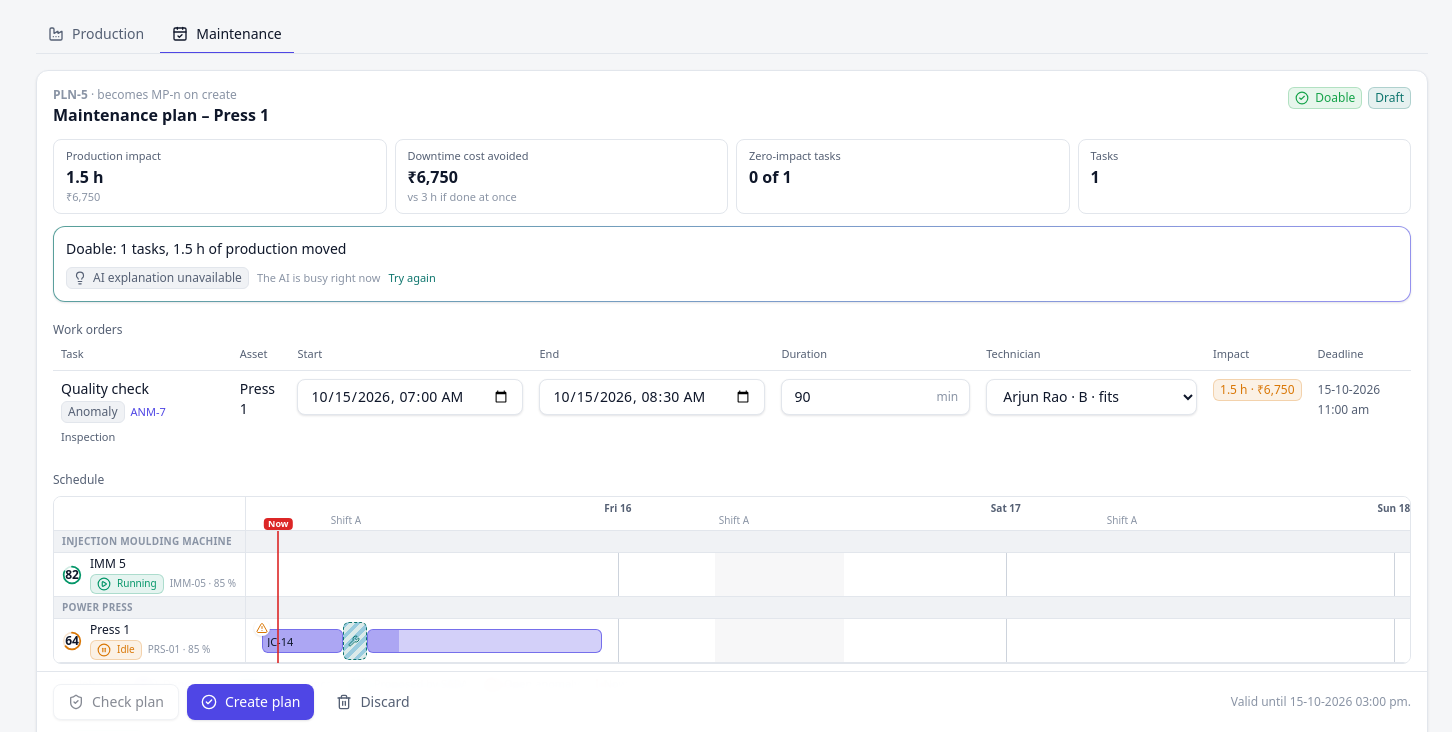
Test: PlannerPage · Maintenance › pre-fills and runs the deep link, then shows the plan with metrics, tasks and the fallback line
Expected: the heading "Maintenance plan – Press 1" is shown, [53,103,269,127]
Expected: the text "₹6,750" below "Production impact" is shown, [66,188,100,204]
Select "Priya Nair · C" in the dropdown named "Technician of Quality check". click: [1092, 397]
box: [986,379,1197,415]
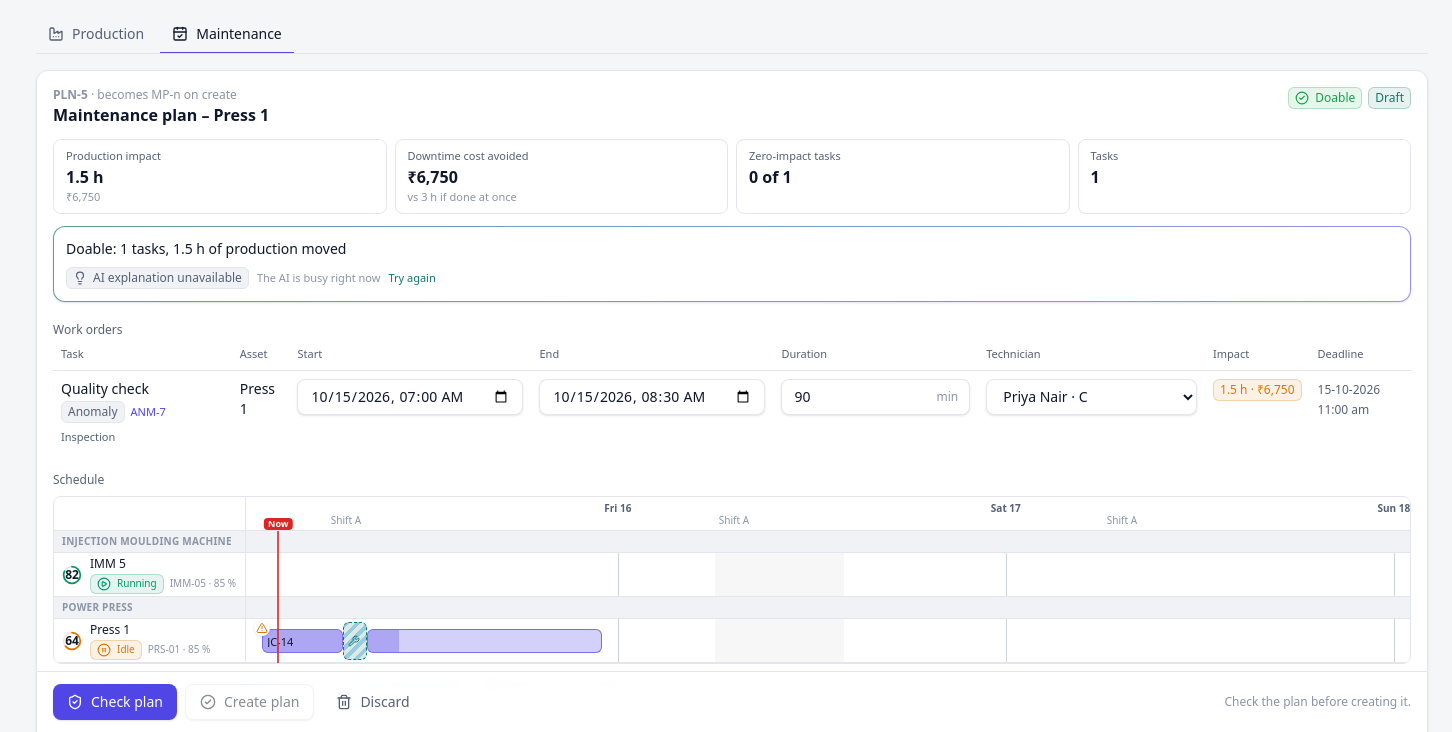
Expected: the button "Check plan" is enabled
Click the button "Check plan". click: [115, 702]
box: [53,684,177,720]
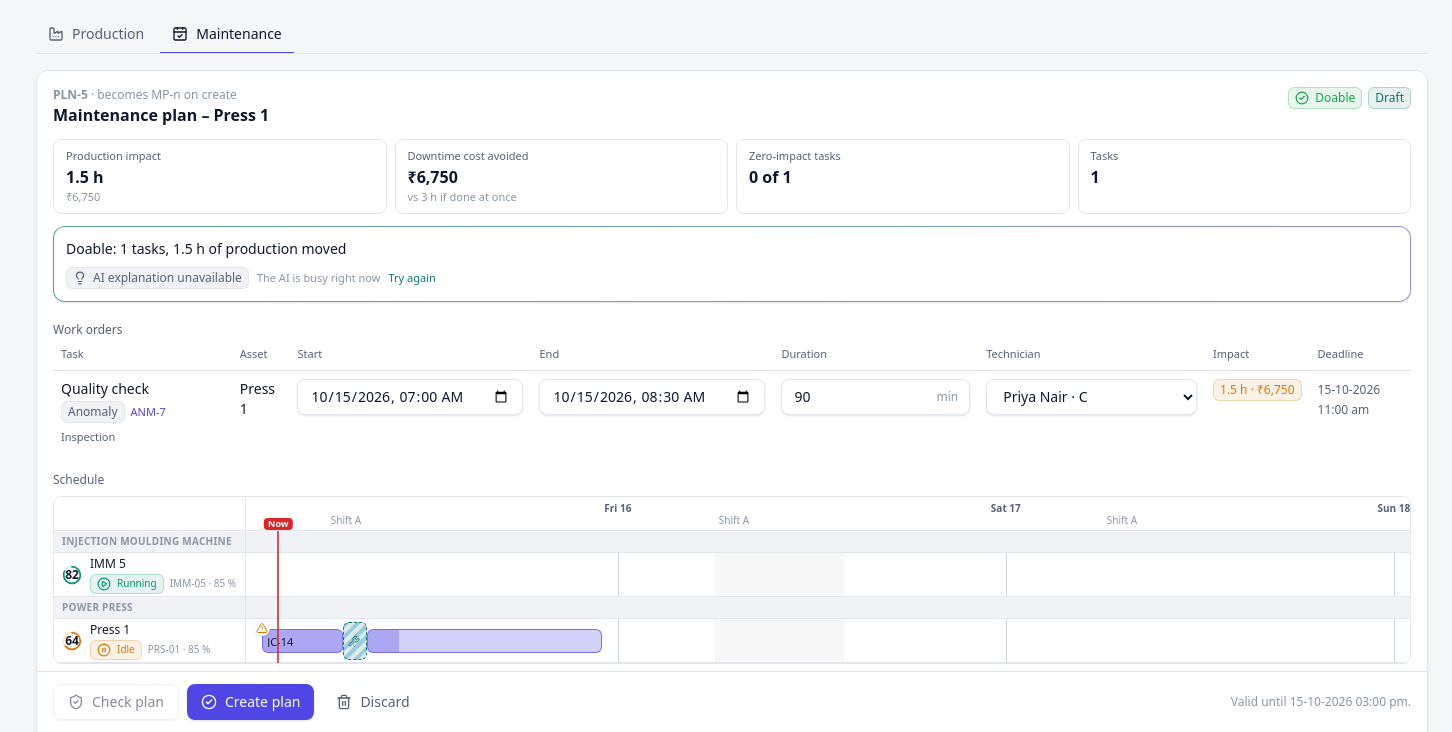
Expected: the button "Create plan" is enabled
Click the button "Create plan". click: [251, 702]
box: [187,684,314,720]
(page scrolled)
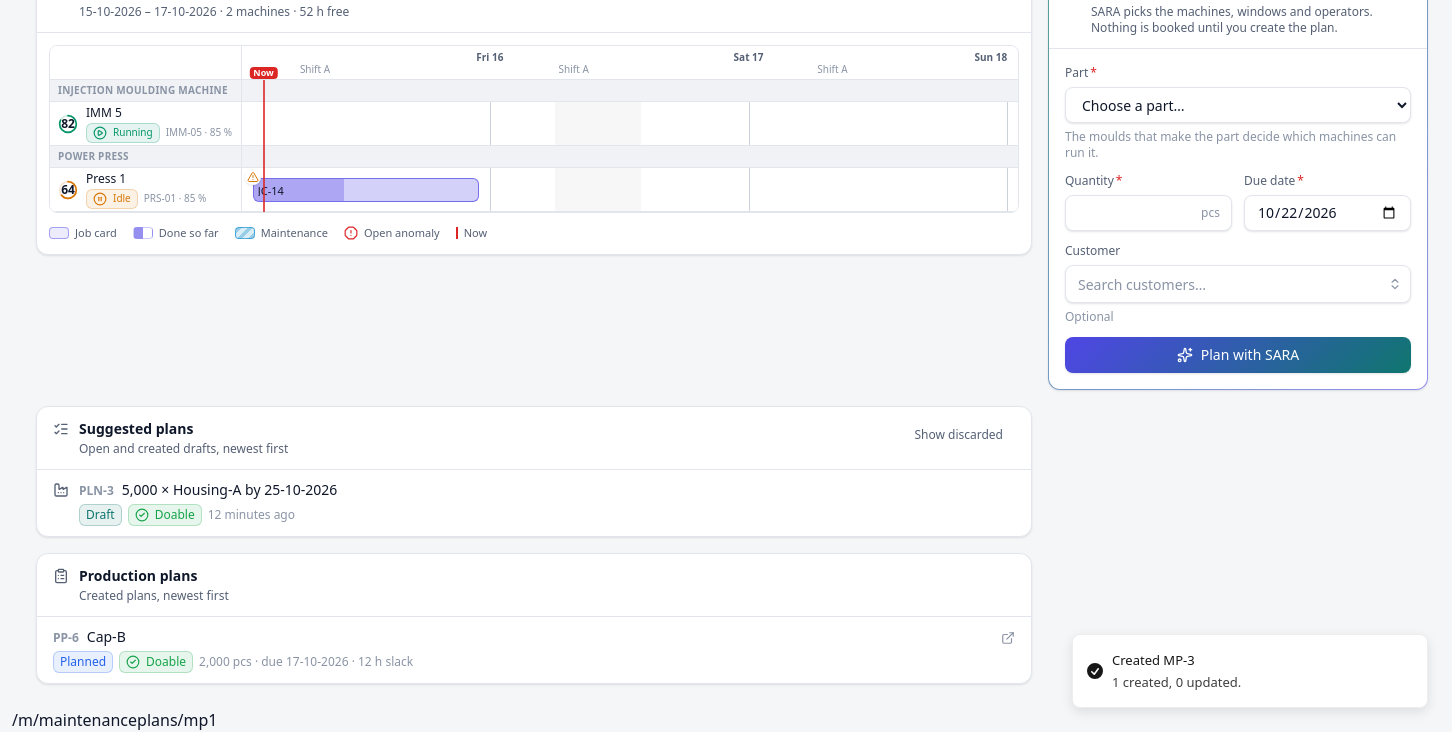
Expected: the text with test id "where" reads "/m/maintenanceplans/mp1", [12,709,218,731]
